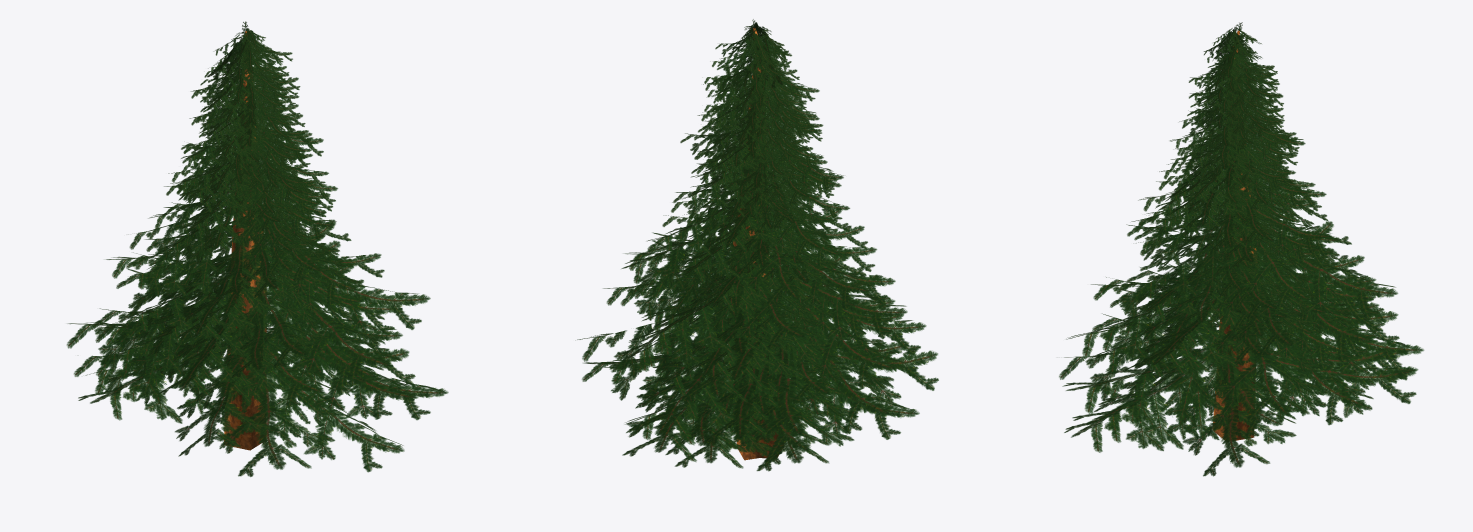
Rendered from Pine_Tree.glb.
3 views of the same model, side by side, from view 1: azimuth 30°, elevation 25°; view 2: azimuth 150°, elevation 25°; view 3: azimuth 270°, elevation 25° (orthographic). The views are drawn at different scales.
Visible parts, largest first — view 1: Cube.002; view 2: Cube.002; view 3: Cube.002.
Boxes of the visible parts, box(x1,y1,x2,y2) form: Cube.002: box(66, 21, 448, 476); Cube.002: box(577, 19, 938, 471); Cube.002: box(1059, 22, 1423, 476).
Size of the model in its own units: 6.23 by 6.68 by 6.36.
2 materials, 2 textured.
